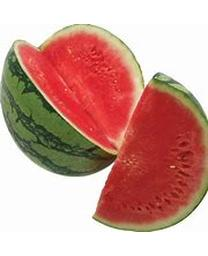watermelon: (2, 23, 147, 181), (93, 70, 207, 231)
